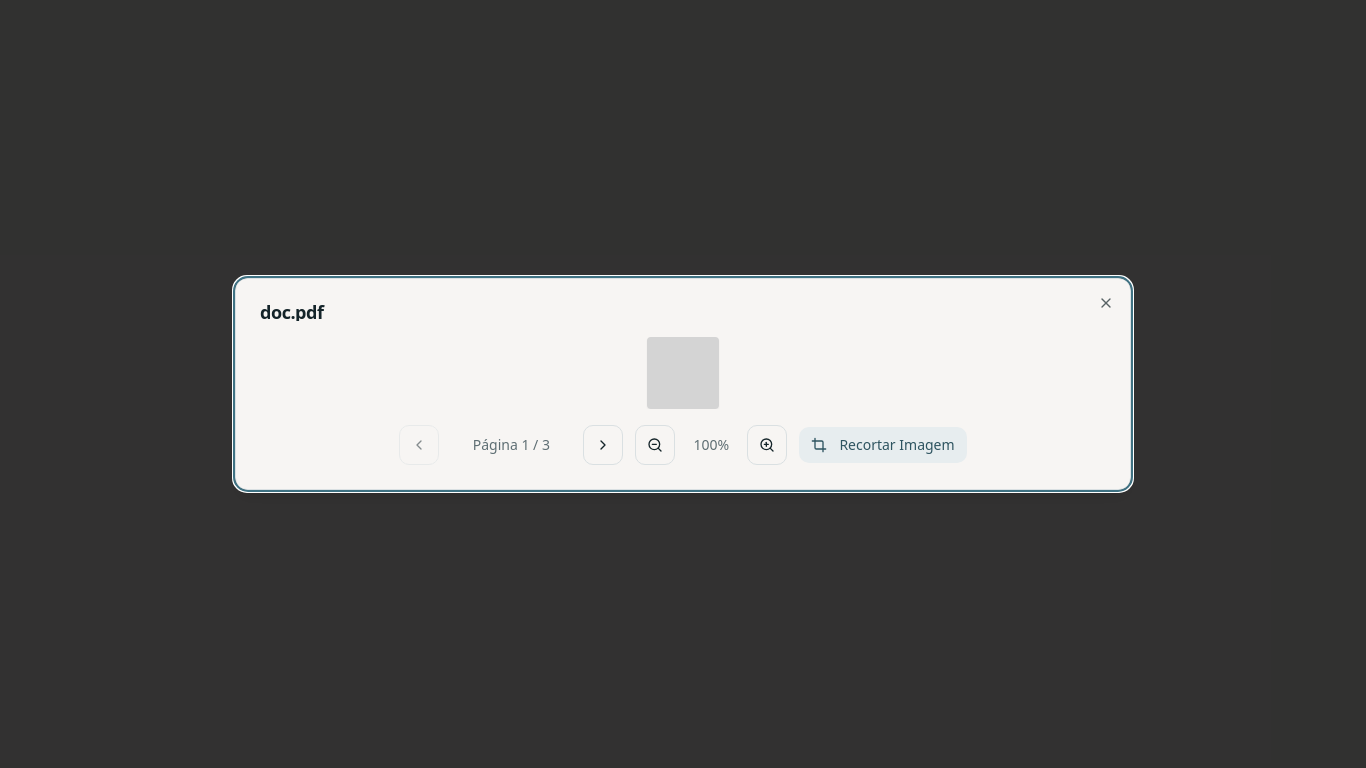
Test: PdfPreviewModal (forms) › cancelling crop mode hides the drag-hint text
The image size is (1366, 768).
What coordinates should you click on to do the following:
click the button "Recortar Imagem"
I would click on:
 (883, 445)
Its box is [799, 427, 967, 463].
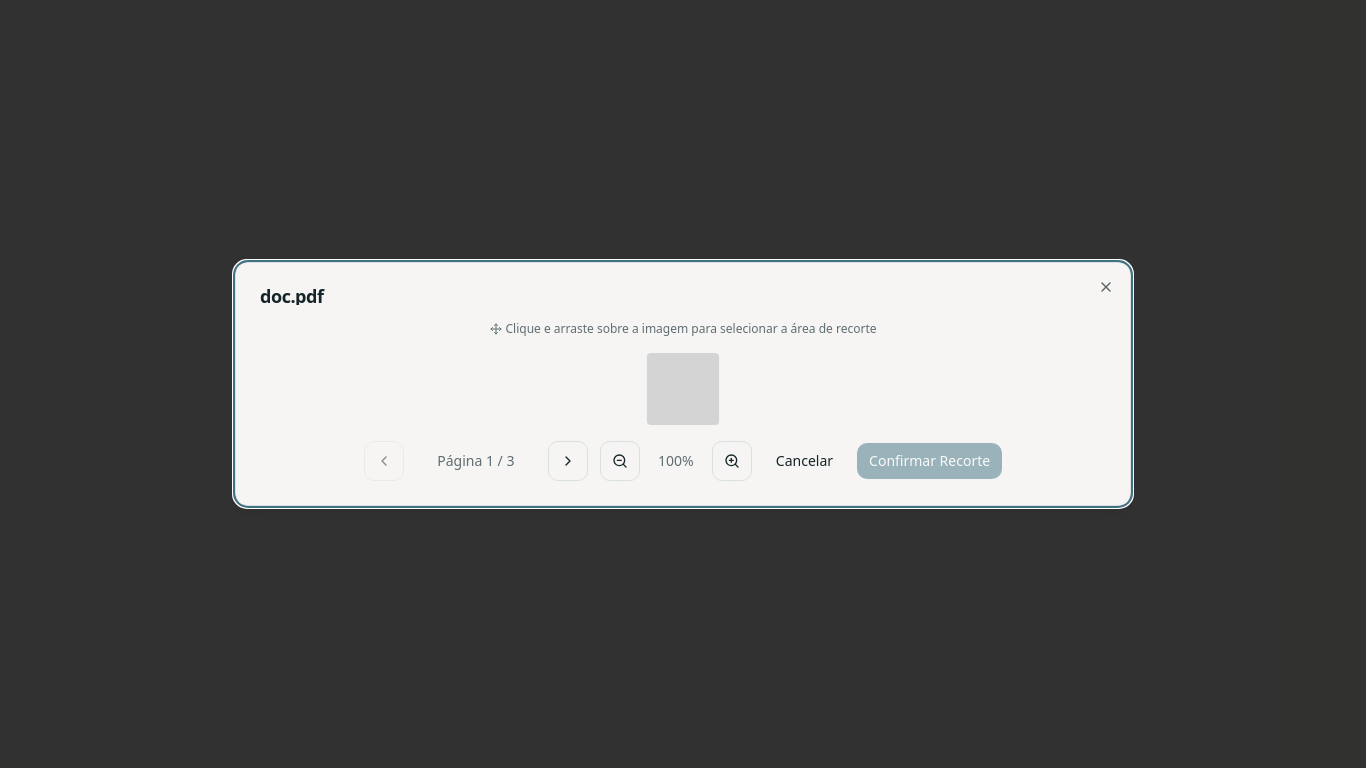
Expected: the text "Clique e arraste" is shown, [506, 320, 876, 337]
What coordinates should you click on to do the following:
click the button "Cancelar"
I would click on:
 (804, 461)
Its box is [764, 443, 845, 479].
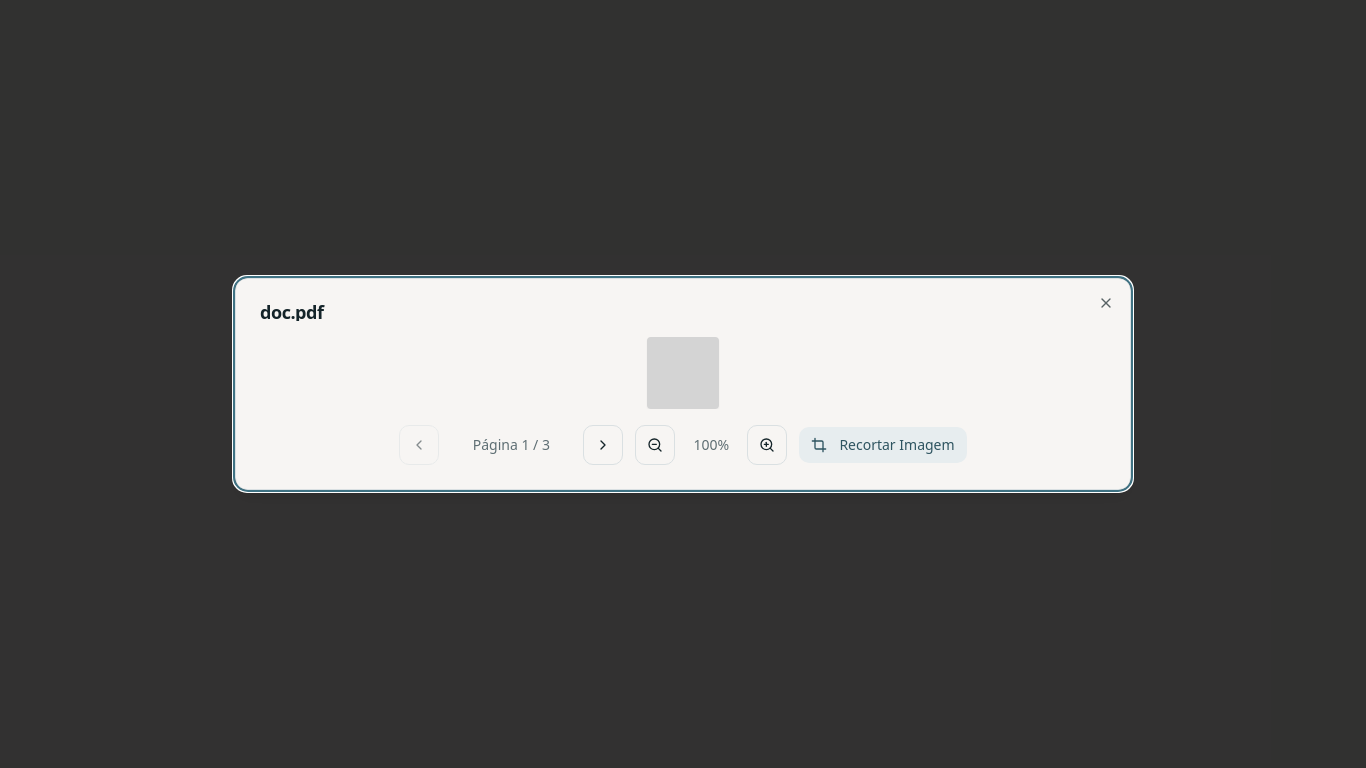
Expected: the text "Clique e arraste" is gone
